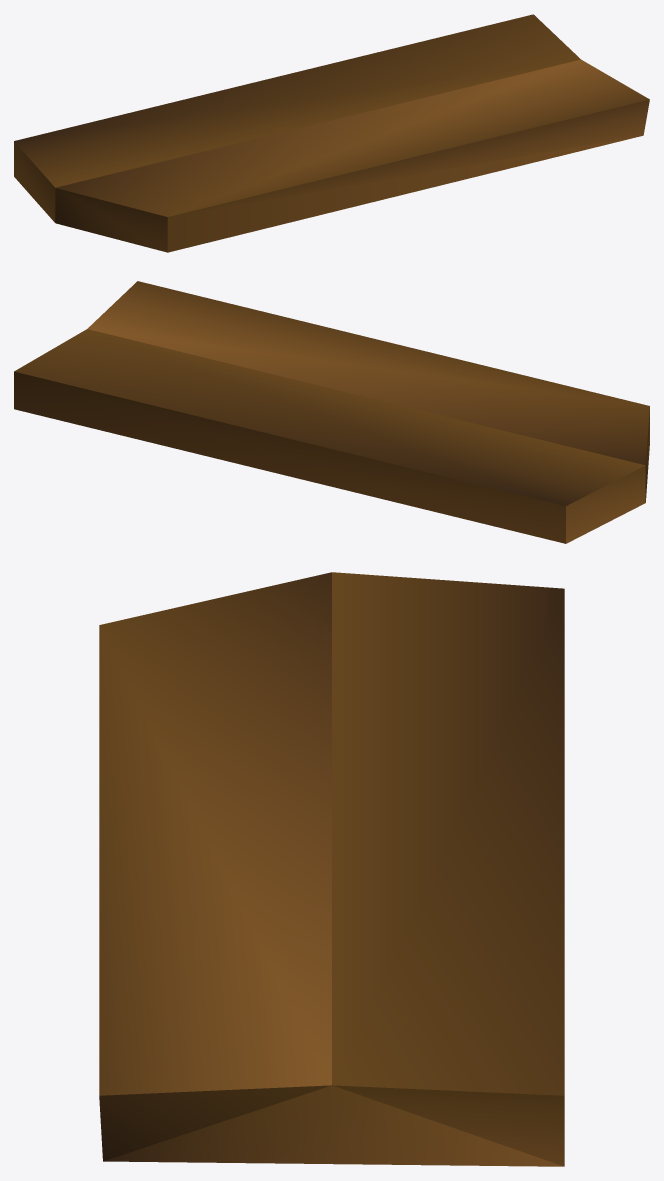
The model's file is Mixed_Box_board_01.fbx.
3 renders of one model, top to bottom at view 1: azimuth 30°, elevation 25°; view 2: azimuth 150°, elevation 25°; view 3: azimuth 270°, elevation 25°, orthographic. The views are drawn at different scales.
Parts seen in each view (by area): view 1: Box_board_01.001; view 2: Box_board_01.001; view 3: Box_board_01.001.
Part boxes in pixels (box(x1,y1,x2,y2)): Box_board_01.001: box(14, 14, 649, 252); Box_board_01.001: box(14, 281, 649, 543); Box_board_01.001: box(99, 572, 564, 1166).
Bounding box in the file's own units: 177 × 11.18 × 66.42.
